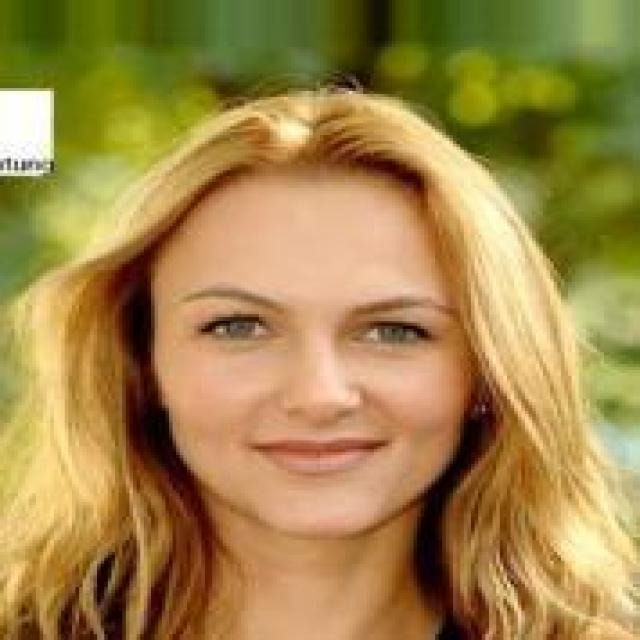nomask: (115, 108, 547, 572)
